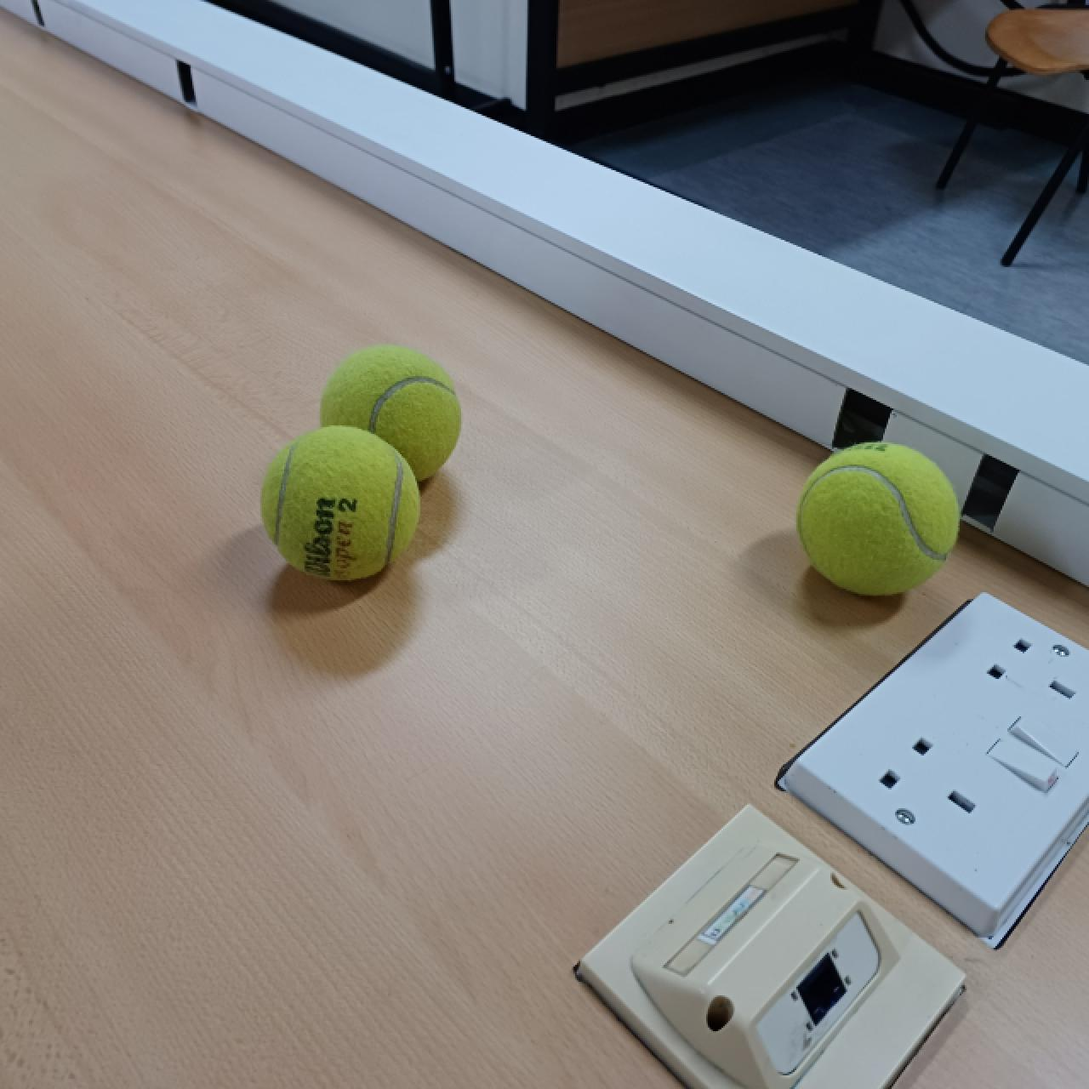tennis-ball: (797, 439, 960, 603), (262, 425, 422, 586), (320, 342, 461, 492)
